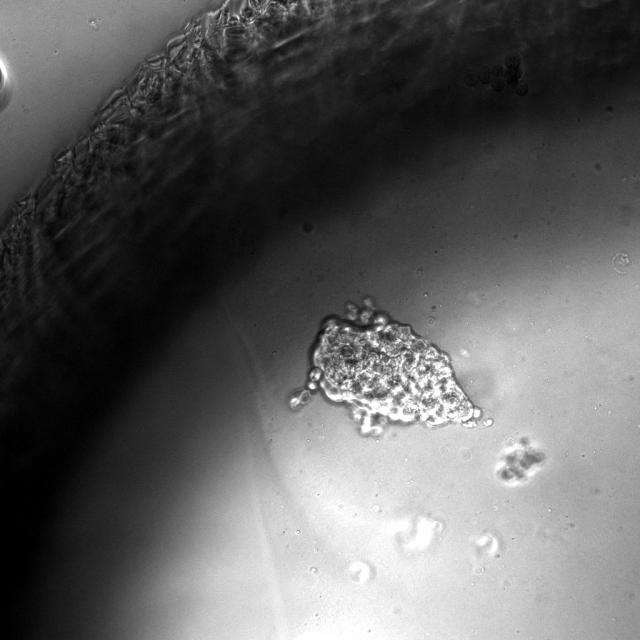organoid: (291, 297, 492, 440), (494, 437, 546, 486), (612, 252, 632, 274)
